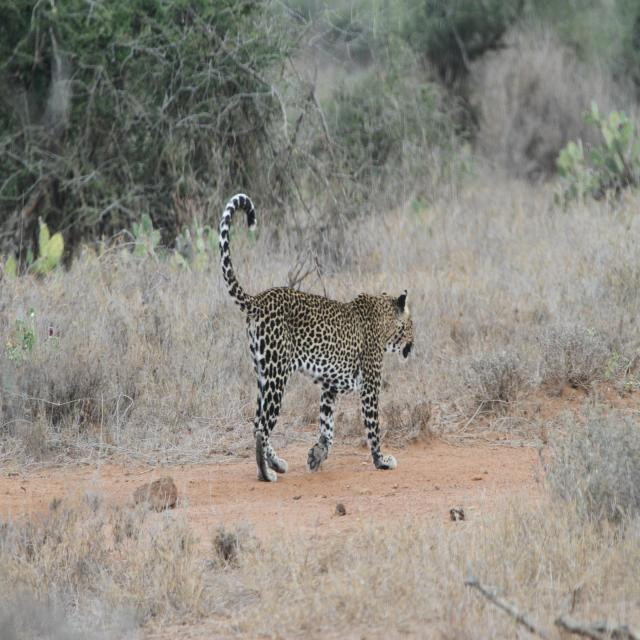Leopard: (213, 243, 416, 492)
